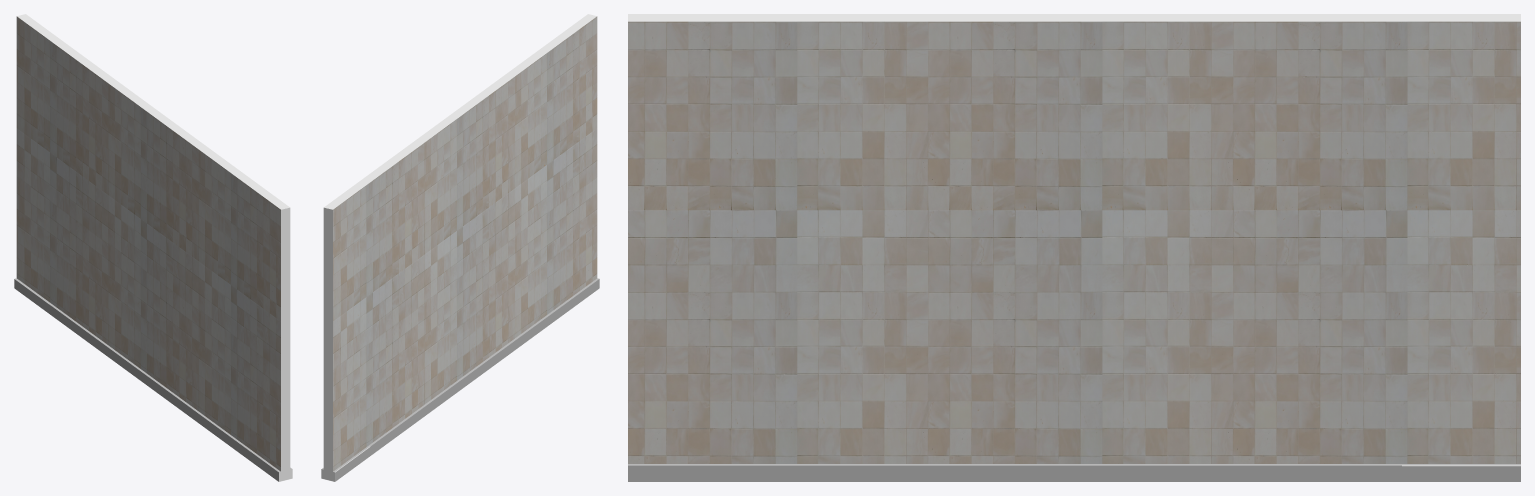
The model's file is Pared_Int_dos_Caras.fbx.
3 renders of one model, left to right at view 1: azimuth 30°, elevation 25°; view 2: azimuth 150°, elevation 25°; view 3: azimuth 270°, elevation 25°, orthographic. The views are drawn at different scales.
Visible parts, largest first — view 1: Pared_Int_Dos_Caras; view 2: Pared_Int_Dos_Caras; view 3: Pared_Int_Dos_Caras.
Boxes of the visible parts, left/top/right/bottom form: Pared_Int_Dos_Caras: left=14, top=14, right=292, bottom=481; Pared_Int_Dos_Caras: left=321, top=14, right=599, bottom=481; Pared_Int_Dos_Caras: left=628, top=14, right=1520, bottom=481.
Size of what is drawn, in the model's own units: 7.09 by 134 by 236.
